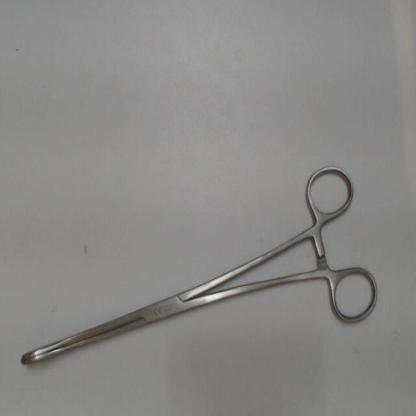Sponge Forceps: (12, 156, 384, 376)
